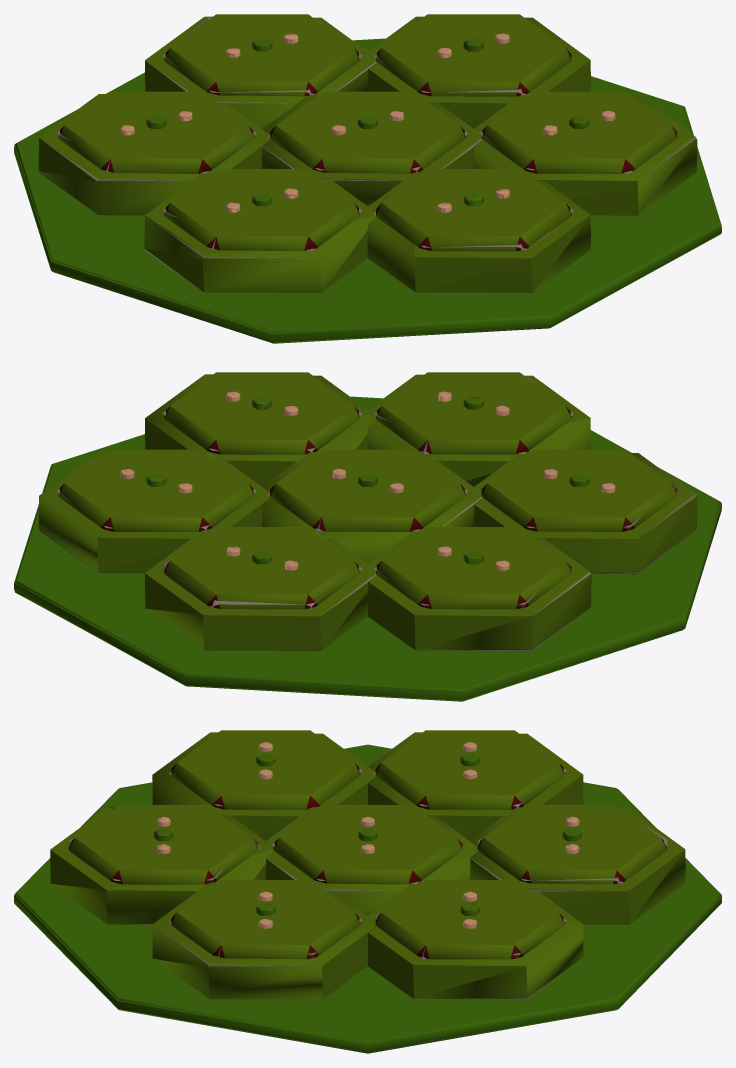
File: RCLModule_assault_walker_plasma_cinder_ablative_era_LODs.fbx
3 views of the same model, one above another, from view 1: azimuth 30°, elevation 25°; view 2: azimuth 150°, elevation 25°; view 3: azimuth 270°, elevation 25° (orthographic). The views are drawn at different scales.
Visible parts, largest first — view 1: LOD1_RCLModule_assault_walker_plasma_cinder_ablative_era_Bat (×3), LOD2_RCLModule_assault_walker_plasma_cinder_ablative_era_Bat (×2); view 2: LOD1_RCLModule_assault_walker_plasma_cinder_ablative_era_Bat (×3), LOD2_RCLModule_assault_walker_plasma_cinder_ablative_era_Bat (×2); view 3: LOD1_RCLModule_assault_walker_plasma_cinder_ablative_era_Bat (×3), LOD2_RCLModule_assault_walker_plasma_cinder_ablative_era_Bat (×2).
Part boxes in pixels (left/top/right/bottom): LOD1_RCLModule_assault_walker_plasma_cinder_ablative_era_Bat (×3): left=14, top=14, right=721, bottom=343; LOD2_RCLModule_assault_walker_plasma_cinder_ablative_era_Bat (×2): left=14, top=17, right=721, bottom=343; LOD1_RCLModule_assault_walker_plasma_cinder_ablative_era_Bat (×3): left=14, top=372, right=721, bottom=701; LOD2_RCLModule_assault_walker_plasma_cinder_ablative_era_Bat (×2): left=14, top=375, right=721, bottom=701; LOD1_RCLModule_assault_walker_plasma_cinder_ablative_era_Bat (×3): left=14, top=730, right=721, bottom=1053; LOD2_RCLModule_assault_walker_plasma_cinder_ablative_era_Bat (×2): left=14, top=733, right=721, bottom=1052.
Size of the model in its own units: 47.85 by 5.48 by 47.85.
